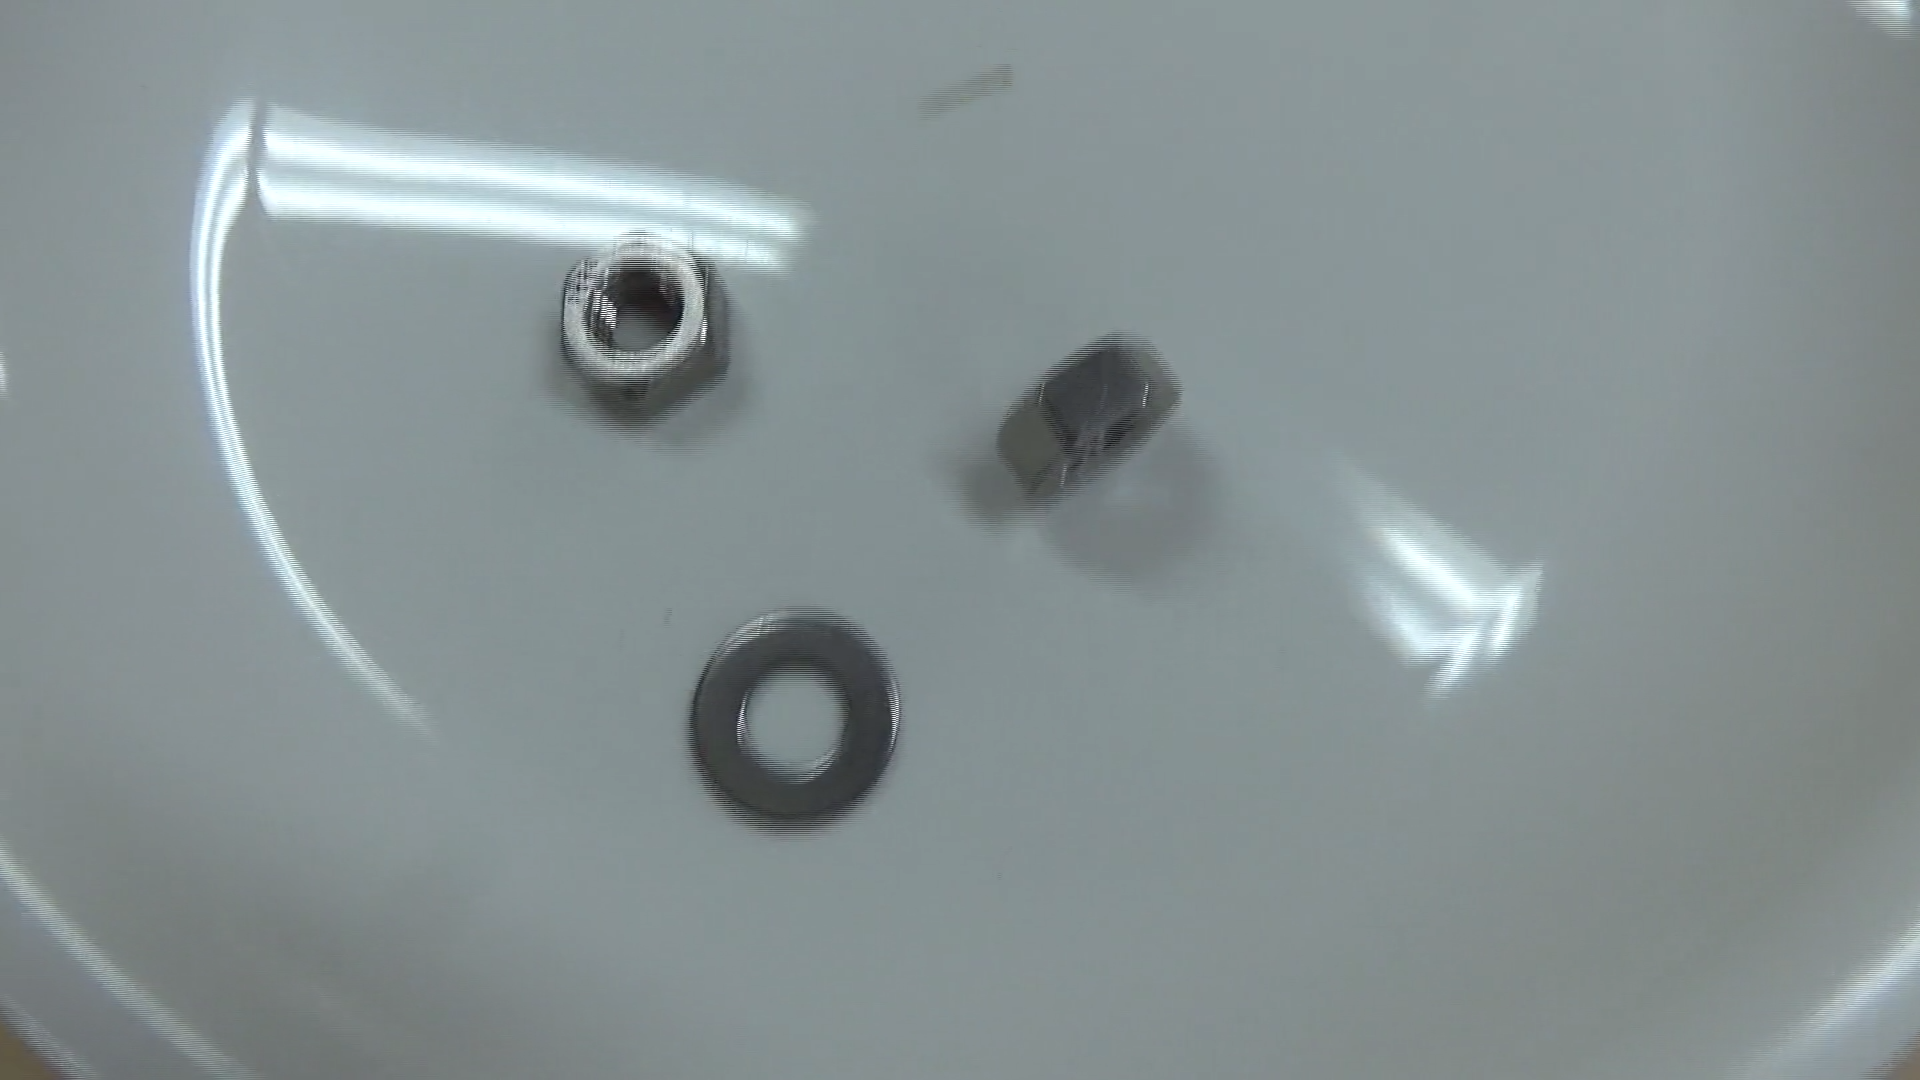nut: (553, 218, 735, 426), (984, 324, 1191, 505)
washer: (678, 597, 910, 837)
